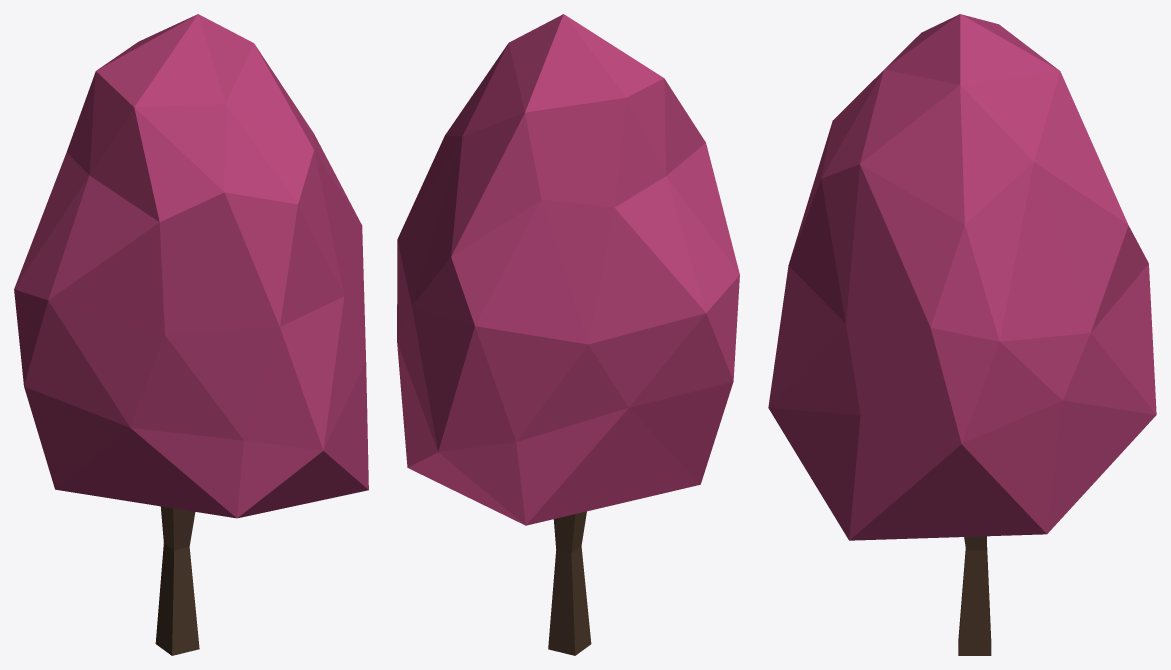
The model's file is Tree_56_Pink.fbx.
3 views of the same model, side by side, from view 1: azimuth 30°, elevation 25°; view 2: azimuth 150°, elevation 25°; view 3: azimuth 270°, elevation 25° (orthographic). The views are drawn at different scales.
Parts seen in each view (by area): view 1: Tree_56_Pink_Part_1, Tree_56_Pink_Part_2; view 2: Tree_56_Pink_Part_1, Tree_56_Pink_Part_2; view 3: Tree_56_Pink_Part_1, Tree_56_Pink_Part_2.
Part boxes in pixels (box(x1,y1,x2,y2)): Tree_56_Pink_Part_1: box(14, 14, 368, 518); Tree_56_Pink_Part_2: box(155, 506, 199, 655); Tree_56_Pink_Part_1: box(397, 14, 739, 525); Tree_56_Pink_Part_2: box(548, 511, 591, 655); Tree_56_Pink_Part_1: box(768, 14, 1156, 540); Tree_56_Pink_Part_2: box(958, 536, 991, 655).
Size of the model in its own units: 336 by 599 by 329.
